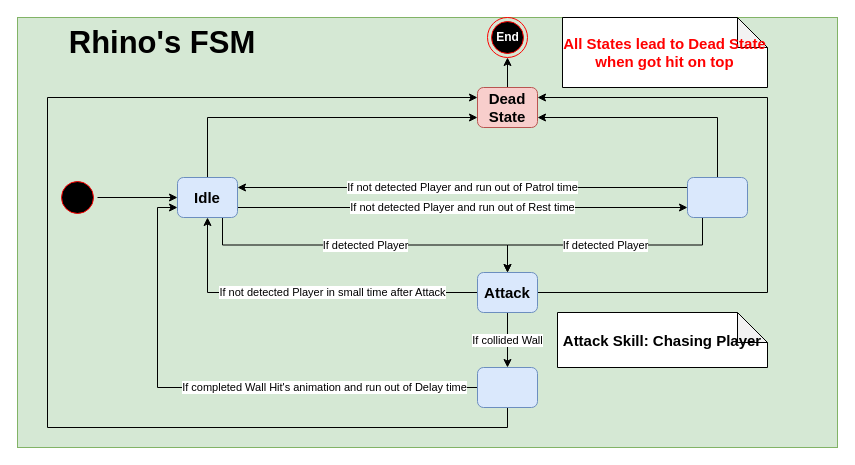
The diagram is 855 pixels wide and 465 high, and some of its shapes have lost their labels. The centre of each missing label's shape, as x and y in pixels:
Patrol: [717,197]
Start: [77,197]
WallHit: [507,387]
